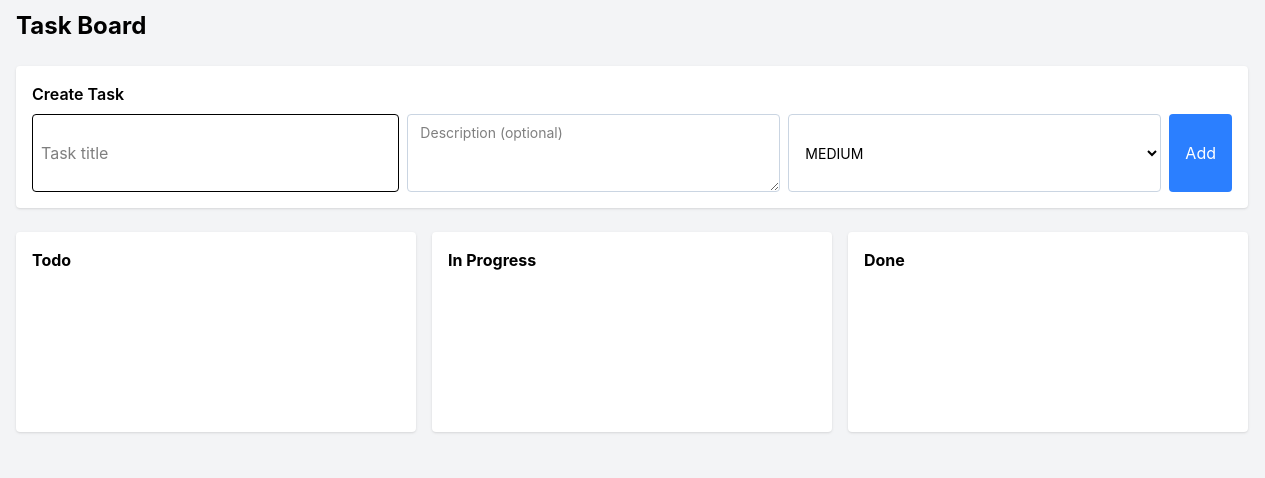
Scenario: TaskBoard states › shows a create-task error message when the mutation fails
Type "Ship notifications" into the field with placeholder "Task title" at (216, 153), box [32,114,399,192]
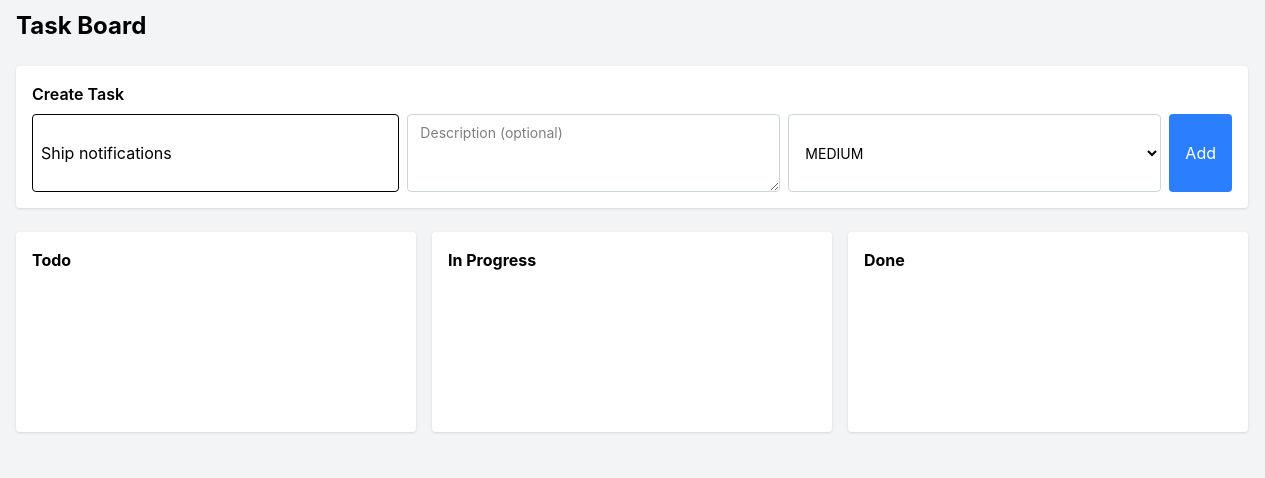
Click the button "Add" at (1201, 153), box [1169,114,1232,192]
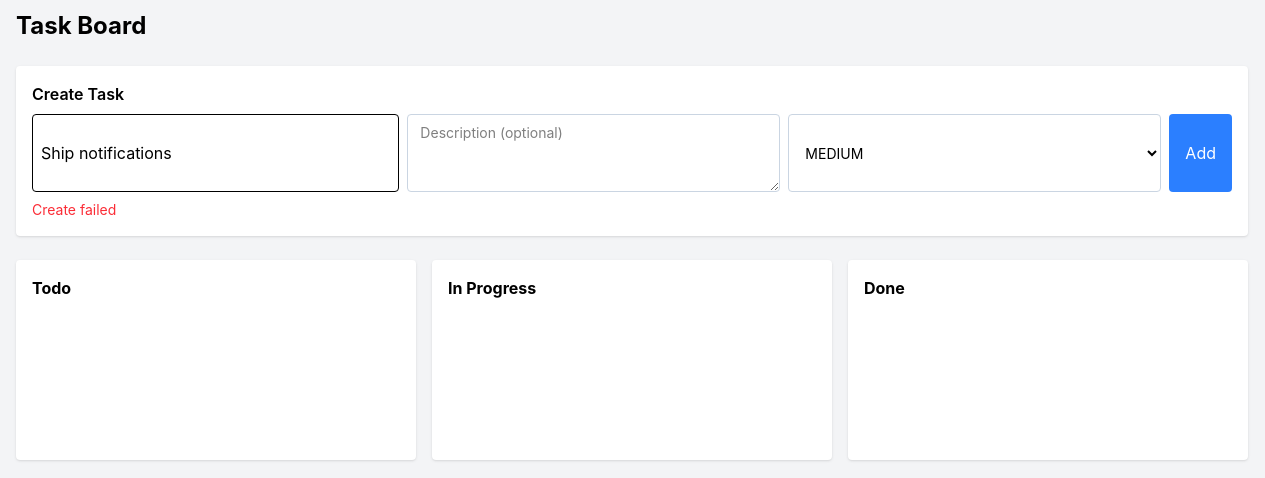
Expected: the text "Create failed" is shown, [32,201,116,218]
